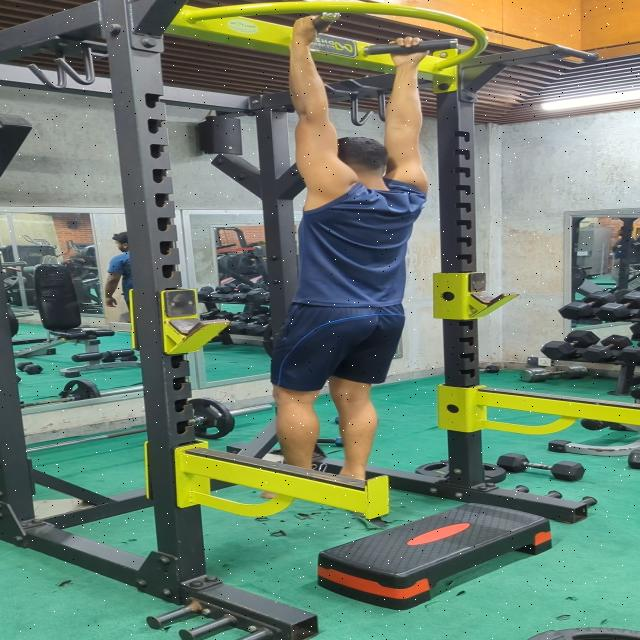Normal_PullUps: (252, 11, 440, 502)
